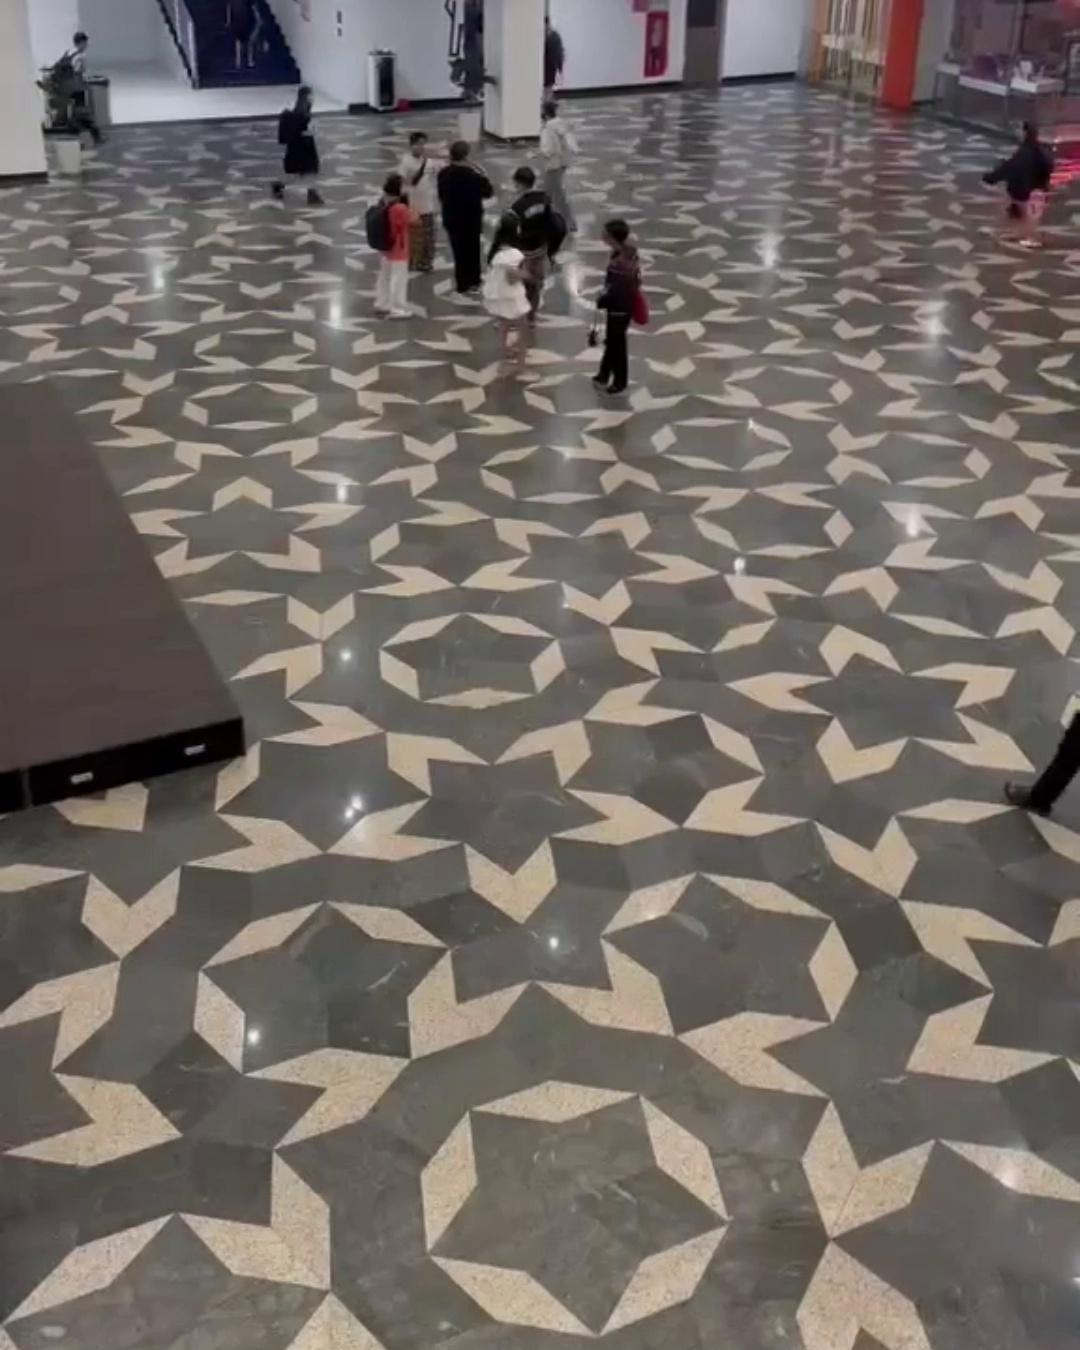your_class: (586, 217, 649, 399), (479, 210, 541, 384), (505, 166, 568, 328), (434, 140, 496, 295), (364, 173, 417, 322), (268, 85, 328, 207), (48, 31, 110, 144), (393, 130, 440, 273), (534, 100, 582, 238), (224, 0, 262, 69), (542, 15, 565, 102)
